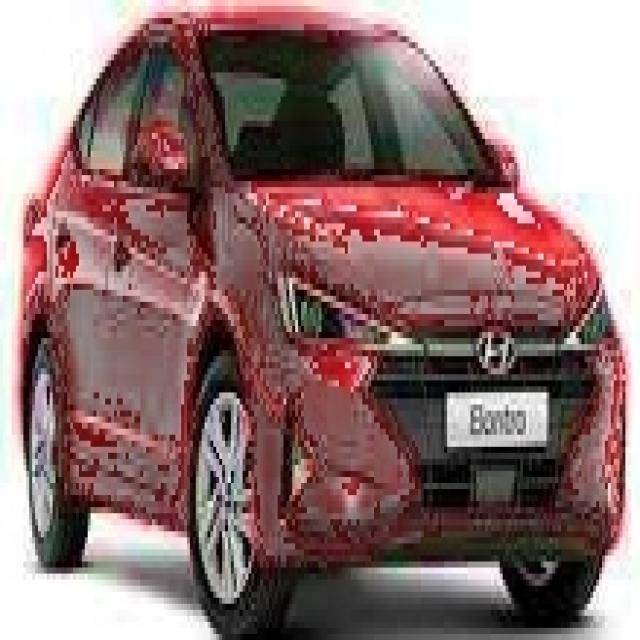maroon: (23, 0, 640, 604)
